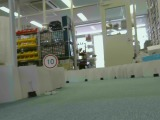speed_10: (43, 54, 58, 69)
